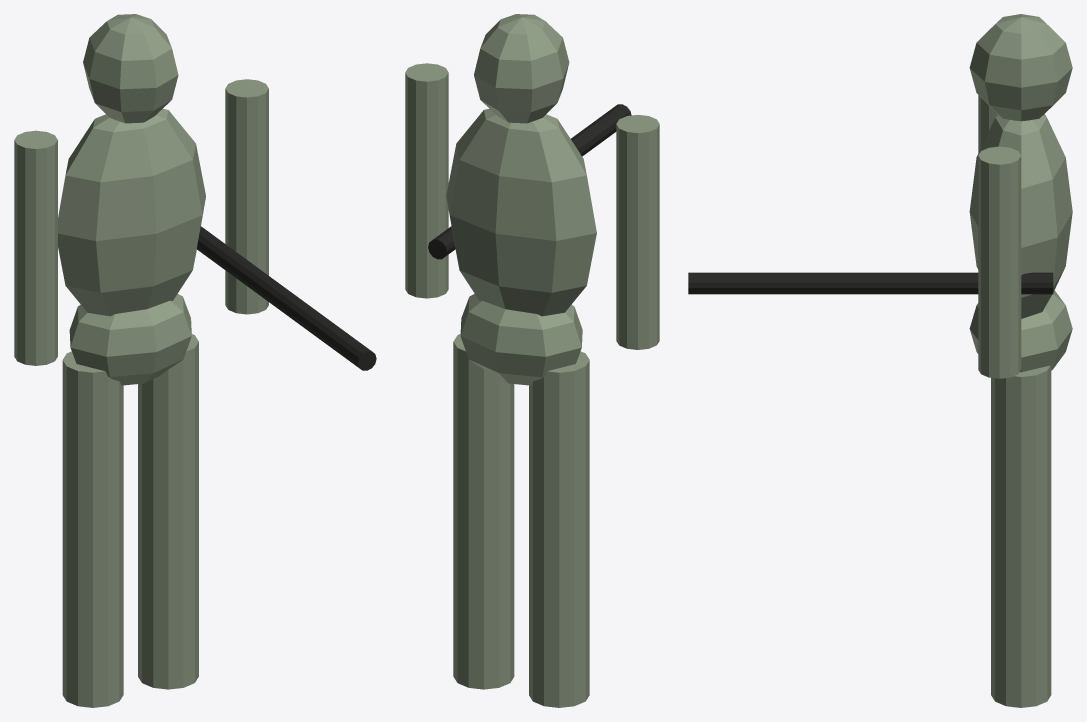
Rendered from bren.glb.
The picture shows the model from 3 angles, left to right: view 1: azimuth 30°, elevation 25°; view 2: azimuth 150°, elevation 25°; view 3: azimuth 270°, elevation 25°; orthographic projection.
Parts seen in each view (by area): view 1: Torso, Leg_L, Leg_R, Arm_L, Arm_R, Head, Pelvis, Rifle; view 2: Torso, Leg_L, Leg_R, Arm_L, Arm_R, Head, Pelvis, Rifle; view 3: Leg_R, Arm_R, Torso, Head, Rifle, Pelvis.
Part boxes in pixels (bbox=[...]): Torso: bbox=[58, 109, 205, 316]; Leg_L: bbox=[62, 351, 123, 707]; Leg_R: bbox=[138, 334, 198, 689]; Arm_L: bbox=[14, 130, 57, 365]; Arm_R: bbox=[225, 79, 268, 314]; Head: bbox=[83, 14, 178, 123]; Pelvis: bbox=[69, 294, 191, 385]; Rifle: bbox=[197, 226, 376, 370]; Torso: bbox=[446, 108, 596, 316]; Leg_L: bbox=[529, 351, 589, 707]; Leg_R: bbox=[453, 334, 514, 689]; Arm_L: bbox=[616, 115, 659, 349]; Arm_R: bbox=[405, 63, 448, 298]; Head: bbox=[474, 14, 569, 123]; Pelvis: bbox=[460, 293, 582, 385]; Rifle: bbox=[428, 104, 631, 259]; Leg_R: bbox=[991, 365, 1051, 707]; Arm_R: bbox=[978, 146, 1021, 378]; Torso: bbox=[969, 114, 1072, 318]; Head: bbox=[969, 14, 1072, 121]; Rifle: bbox=[688, 272, 1053, 294]; Pelvis: bbox=[969, 290, 1072, 372].
Size of the model in its own units: 0.66 by 1.7 by 0.895.
